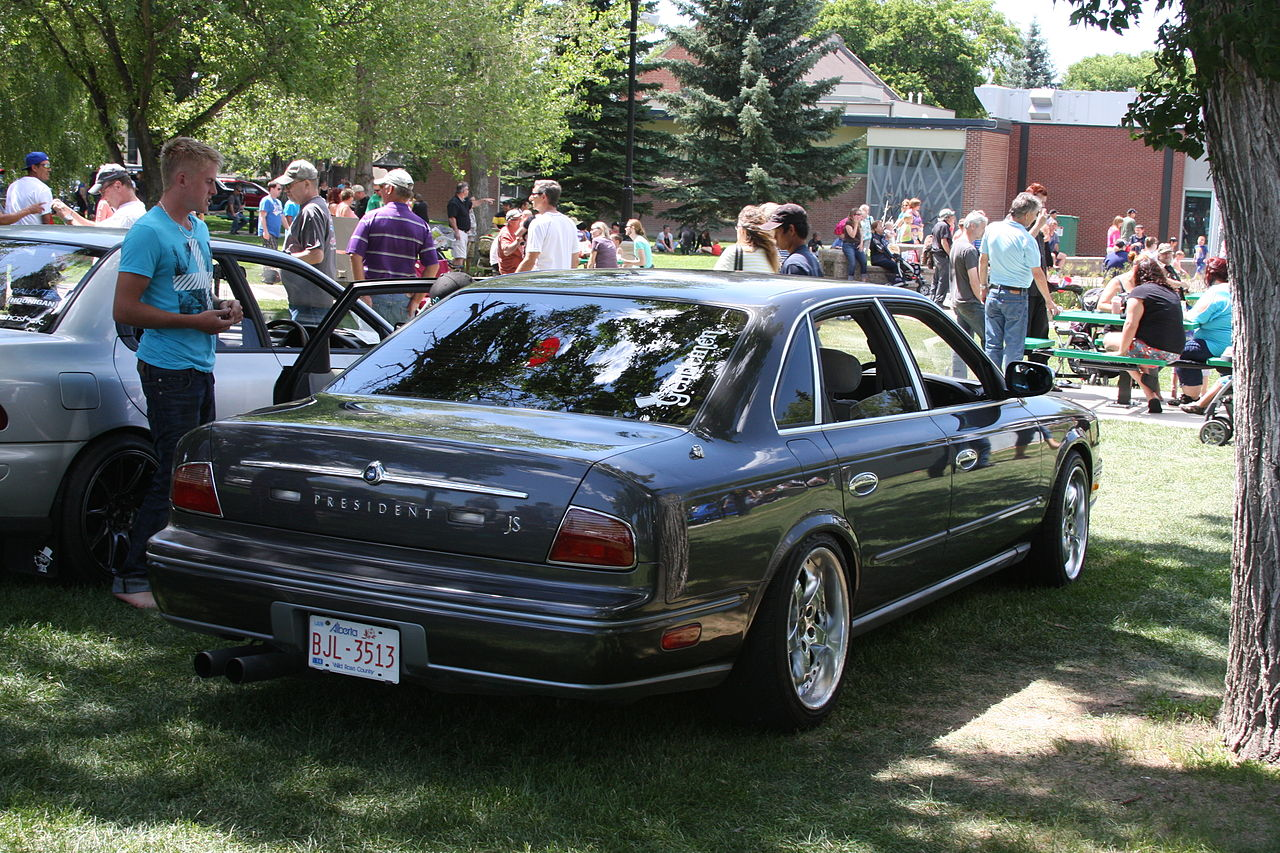plate: (306, 613, 401, 687)
